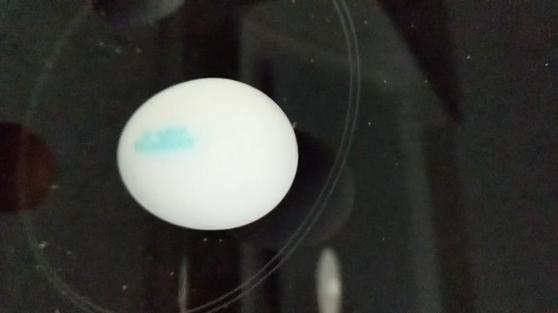egg: (114, 76, 297, 233)
